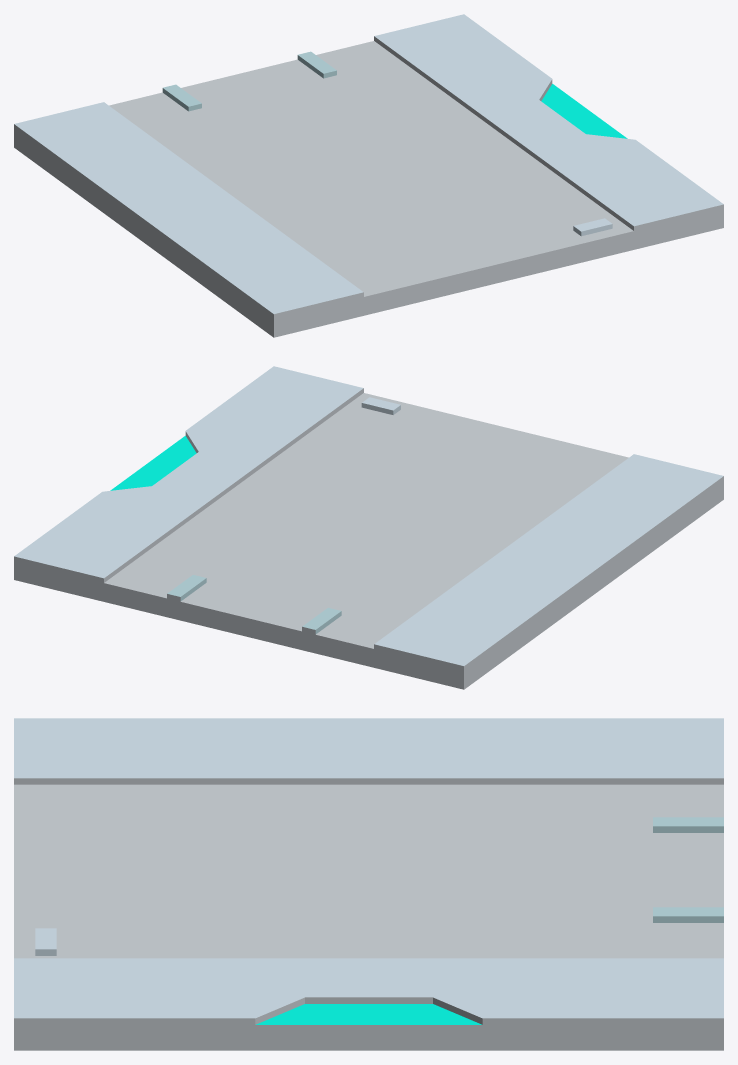
File: floor-06.fbx
3 renders of one model, top to bottom at view 1: azimuth 30°, elevation 25°; view 2: azimuth 150°, elevation 25°; view 3: azimuth 270°, elevation 25°, orthographic. The views are drawn at different scales.
Parts seen in each view (by area): view 1: floor-06; view 2: floor-06; view 3: floor-06.
Boxes of the visible parts, x1,y1,x2,y2 form: floor-06: (14, 14, 723, 337); floor-06: (14, 366, 723, 689); floor-06: (14, 718, 723, 1050).
Bounding box in the file's own units: 100 × 5 × 100.
